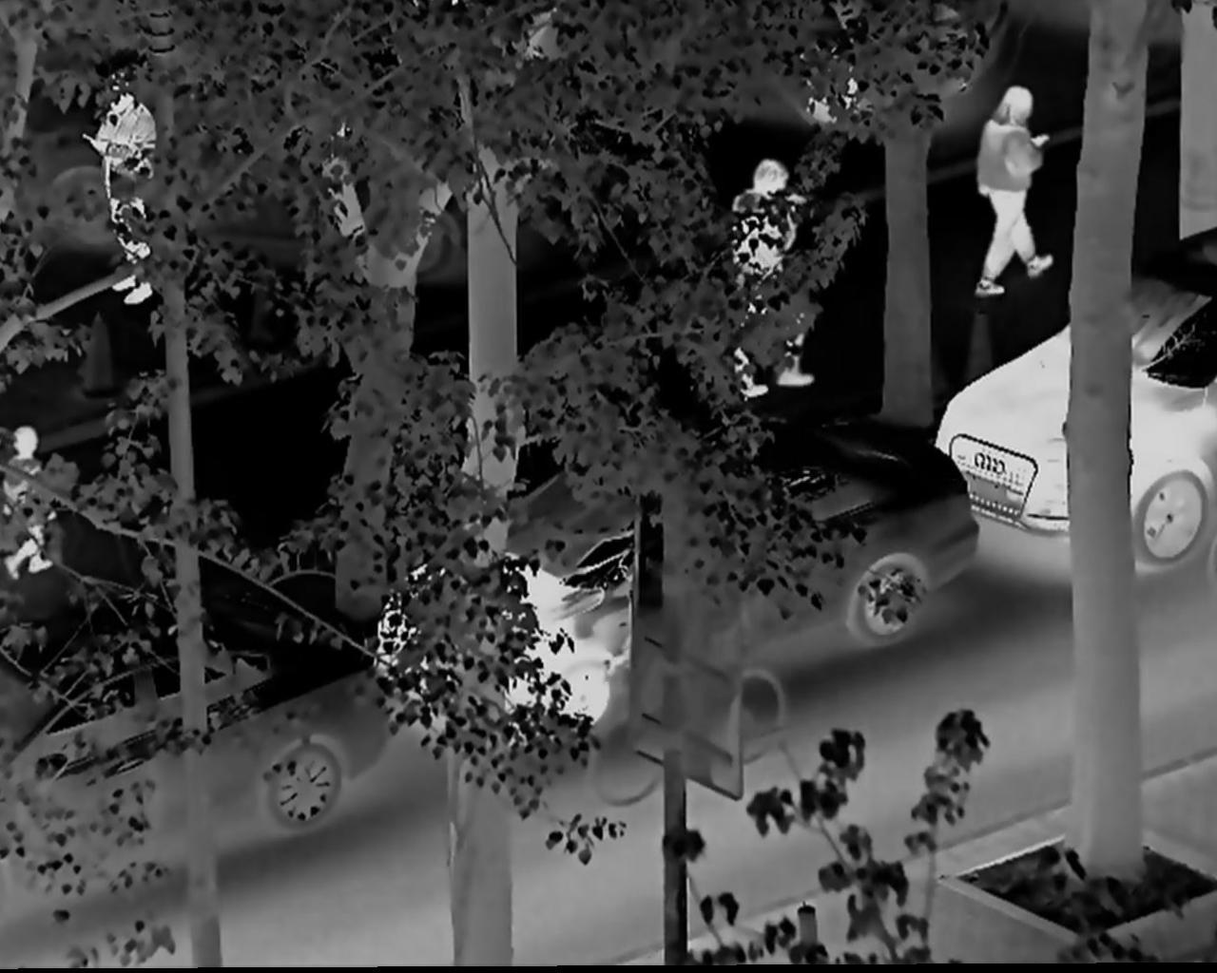person: (724, 151, 817, 403), (968, 76, 1059, 297), (85, 93, 168, 314)
